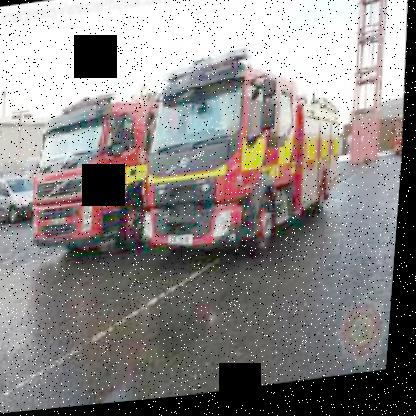emergency: (136, 36, 378, 284), (8, 72, 183, 298)
